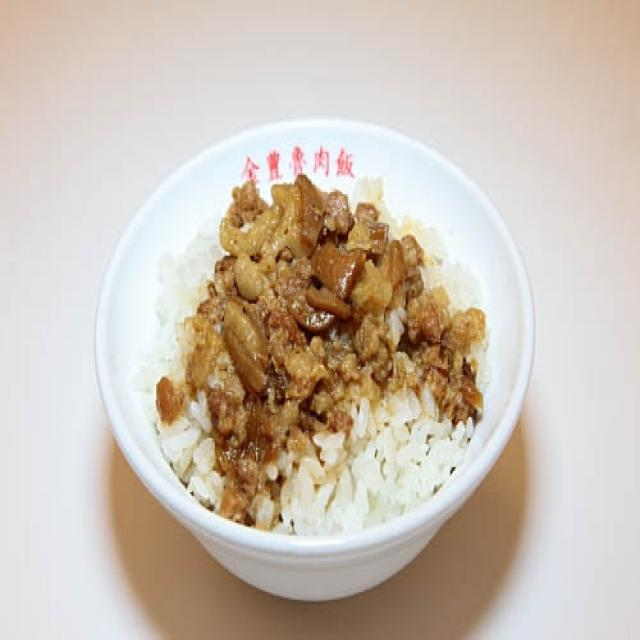猪肉菜式: (90, 134, 544, 578)
